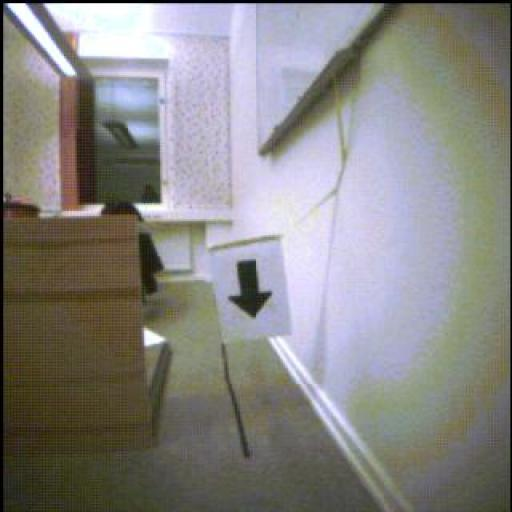arrow: (230, 261, 273, 320)
